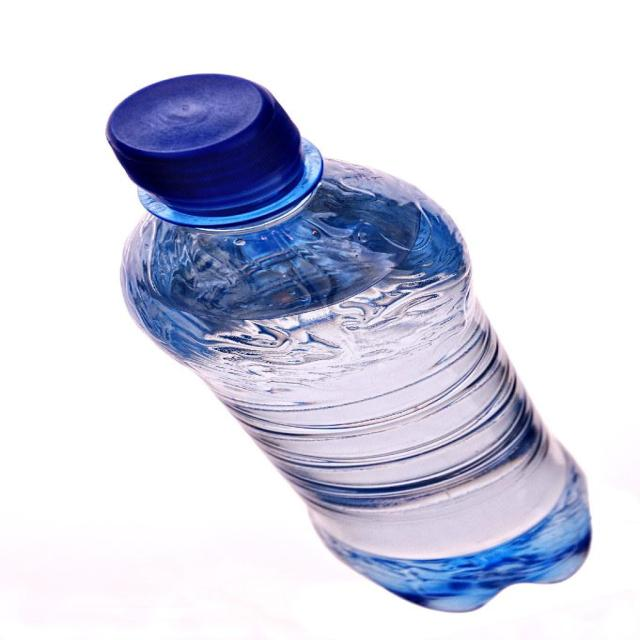bottle: (20, 29, 612, 609)
